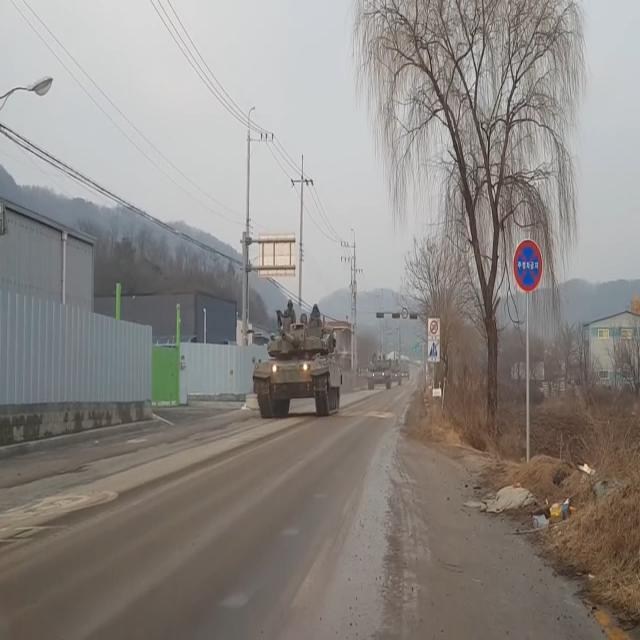korea tank: (250, 297, 342, 420)
